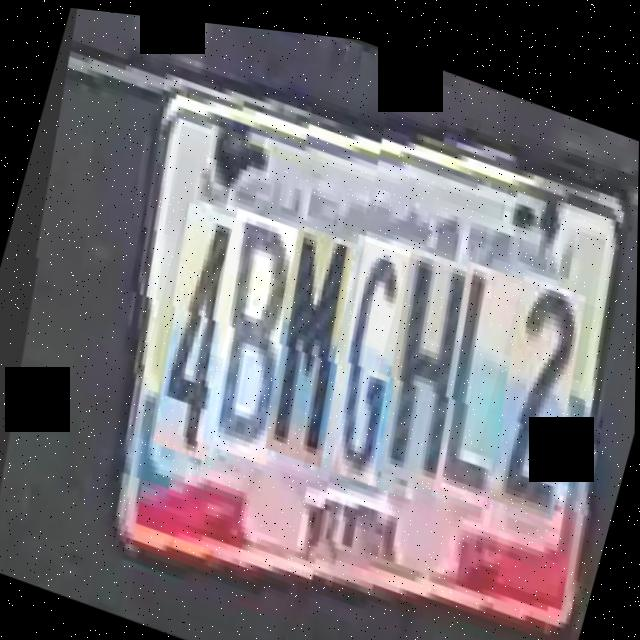2: (465, 263, 602, 516)
4: (126, 192, 258, 458)
B: (177, 196, 318, 462)
G: (303, 227, 428, 487)
H: (353, 237, 490, 490)
L: (408, 250, 540, 506)
M: (241, 212, 370, 462)
